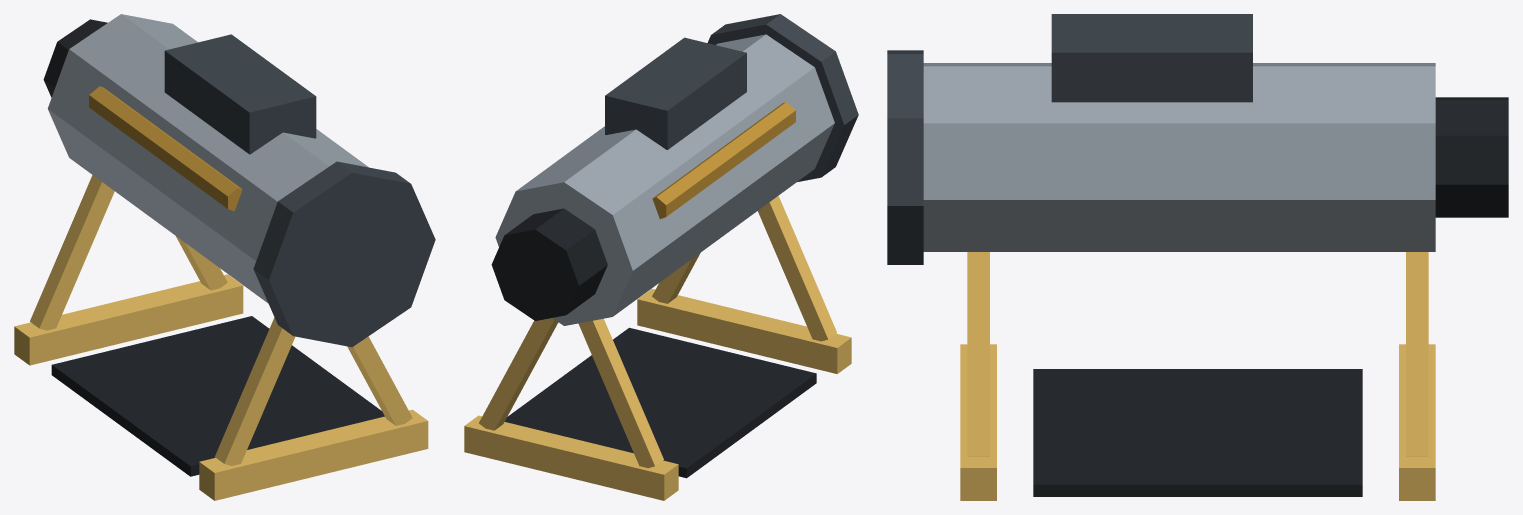
Rendered from prop_carrier_engine_stand.fbx.
The picture shows the model from 3 angles, left to right: view 1: azimuth 30°, elevation 25°; view 2: azimuth 150°, elevation 25°; view 3: azimuth 270°, elevation 25°; orthographic projection. The views are drawn at different scales.
Parts seen in each view (by area): view 1: prop_carrier_engine_stand; view 2: prop_carrier_engine_stand; view 3: prop_carrier_engine_stand.
Boxes of the visible parts, x1,y1,x2,y2 form: prop_carrier_engine_stand: [14, 14, 435, 500]; prop_carrier_engine_stand: [464, 14, 858, 500]; prop_carrier_engine_stand: [887, 14, 1508, 500].
Bounding box in the file's own units: 320 × 490 × 680.
